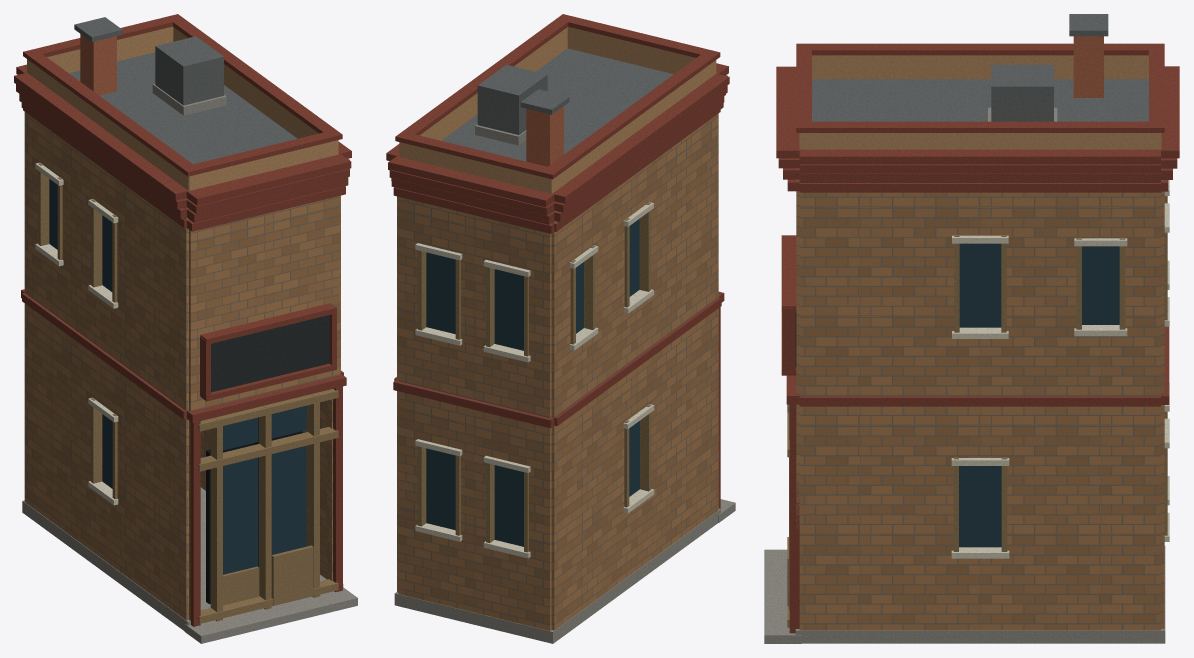
The model's file is BUSS5_lod2.glb.
3 renders of one model, left to right at view 1: azimuth 30°, elevation 25°; view 2: azimuth 150°, elevation 25°; view 3: azimuth 270°, elevation 25°, orthographic. The views are drawn at different scales.
Parts seen in each view (by area): view 1: BUSS5_LOD2; view 2: BUSS5_LOD2; view 3: BUSS5_LOD2.
Part boxes in pixels (x1,y1,x2,y2): BUSS5_LOD2: (14, 14, 357, 643); BUSS5_LOD2: (386, 14, 735, 643); BUSS5_LOD2: (764, 14, 1179, 643).
Size of the model in its own units: 3.78 by 10.25 by 6.9.
Materials: 11 (9 with a texture image).
